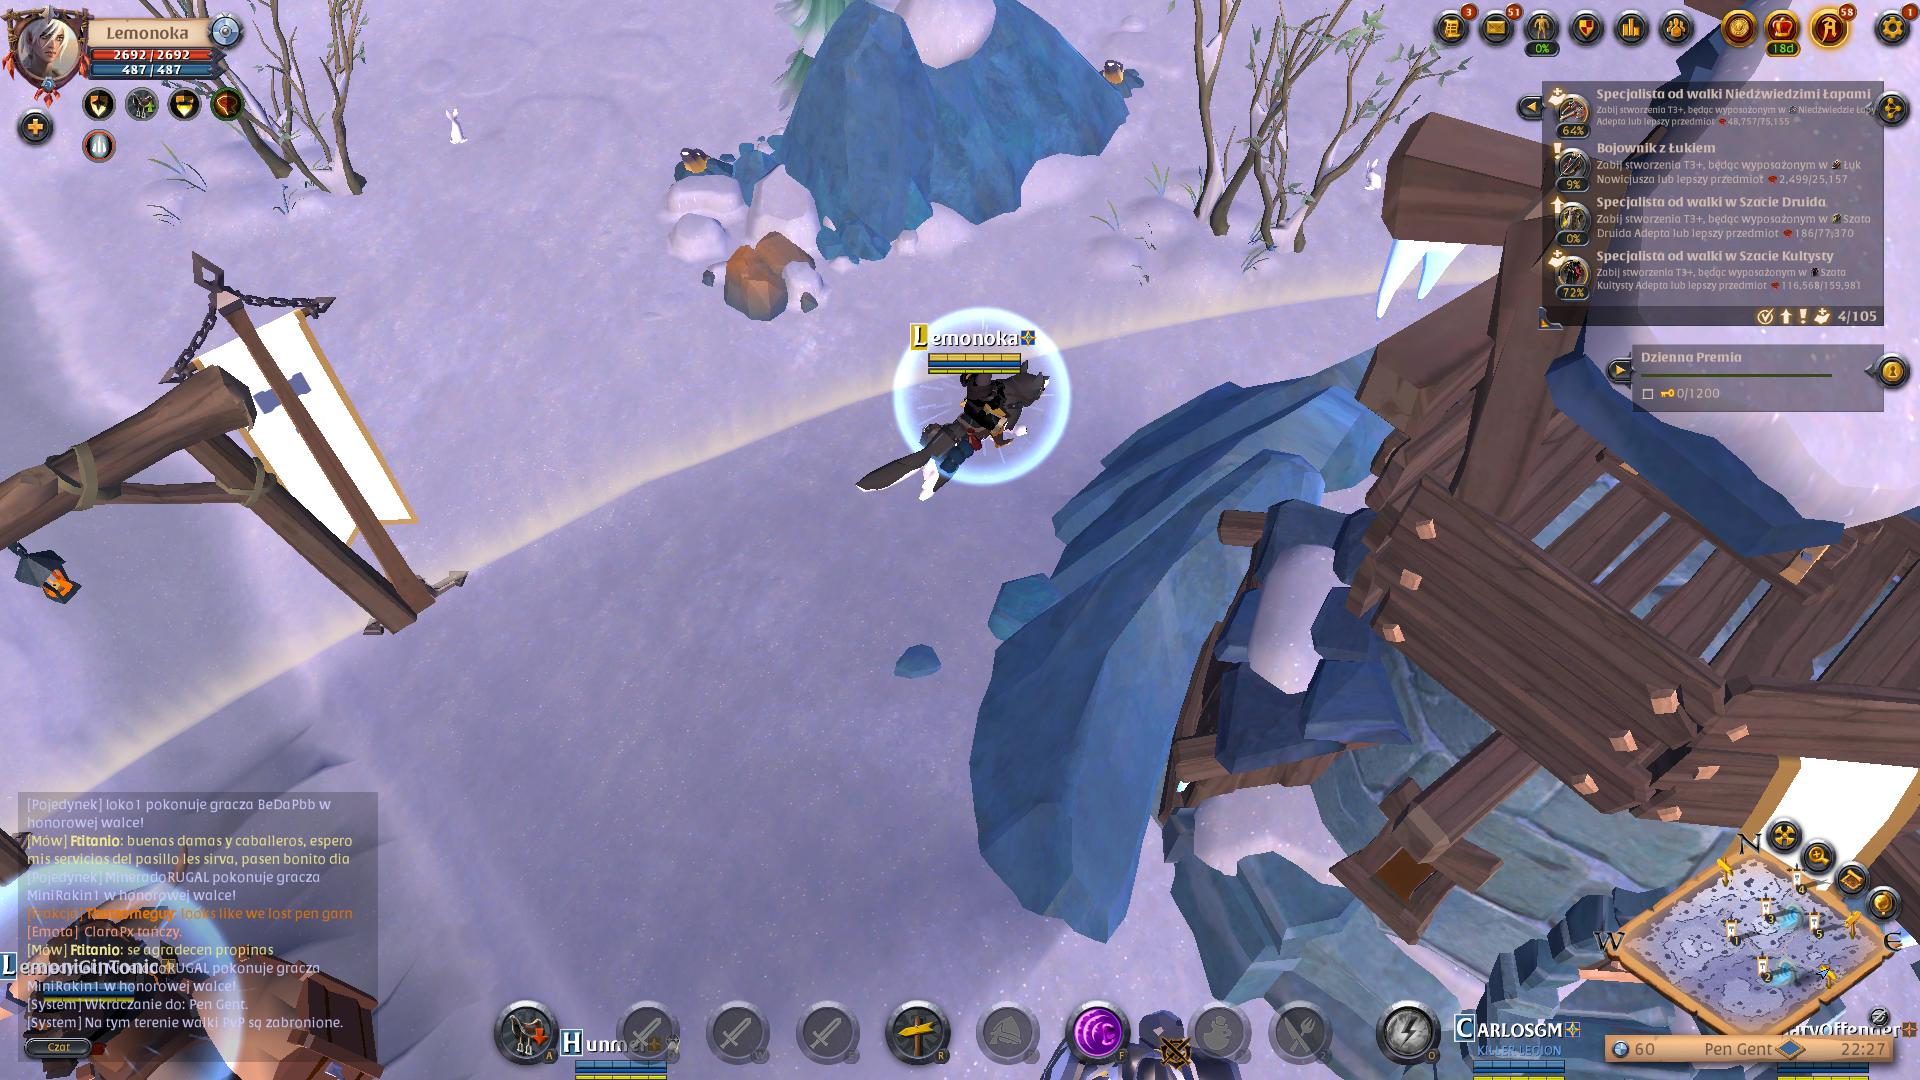ore tier 2: (667, 138, 728, 195), (1091, 50, 1145, 105)
rock tier 2: (724, 223, 827, 335)
